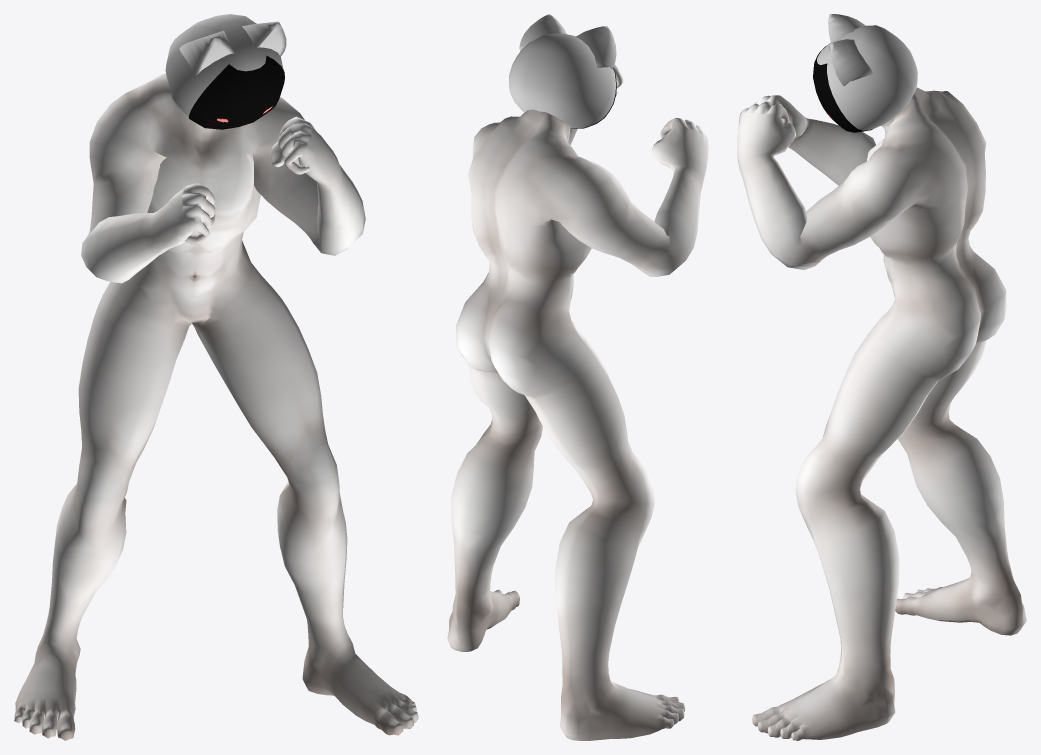
The picture shows the model from 3 angles, left to right: view 1: azimuth 30°, elevation 25°; view 2: azimuth 150°, elevation 25°; view 3: azimuth 270°, elevation 25°; orthographic projection. The views are drawn at different scales.
Parts seen in each view (by area): view 1: Muscle_Body, Cat_Head, ______?001; view 2: Muscle_Body, Cat_Head; view 3: Muscle_Body, Cat_Head, ______?001.
Part boxes in pixels (<box>): Muscle_Body: <box>14,73,418,740</box>; Cat_Head: <box>165,14,286,117</box>; ______?001: <box>188,55,284,129</box>; Muscle_Body: <box>447,64,708,740</box>; Cat_Head: <box>509,14,616,128</box>; Muscle_Body: <box>737,87,1026,740</box>; Cat_Head: <box>817,14,917,130</box>; ______?001: <box>813,46,872,132</box>.
Bounding box in the file's own units: 12.73 × 27 × 10.92.
